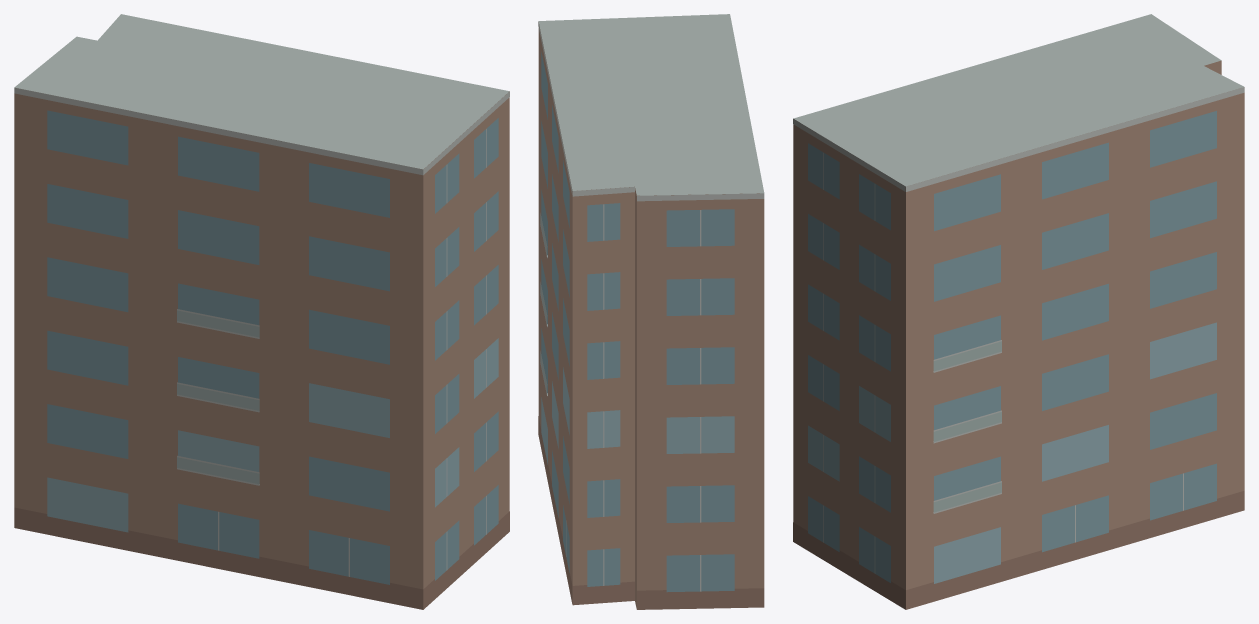
File: survey-upis-32868556.glb
3 views of the same model, side by side, from view 1: azimuth 30°, elevation 25°; view 2: azimuth 150°, elevation 25°; view 3: azimuth 270°, elevation 25° (orthographic). The views are drawn at different scales.
Visible parts, largest first — view 1: survey-upis-32868556.tmp; view 2: survey-upis-32868556.tmp; view 3: survey-upis-32868556.tmp.
Part boxes in pixels (x1,y1,x2,y2): survey-upis-32868556.tmp: (14, 14, 509, 609); survey-upis-32868556.tmp: (538, 14, 764, 609); survey-upis-32868556.tmp: (793, 14, 1244, 609).
Size of the model in its own units: 16 by 18.3 by 17.69.
